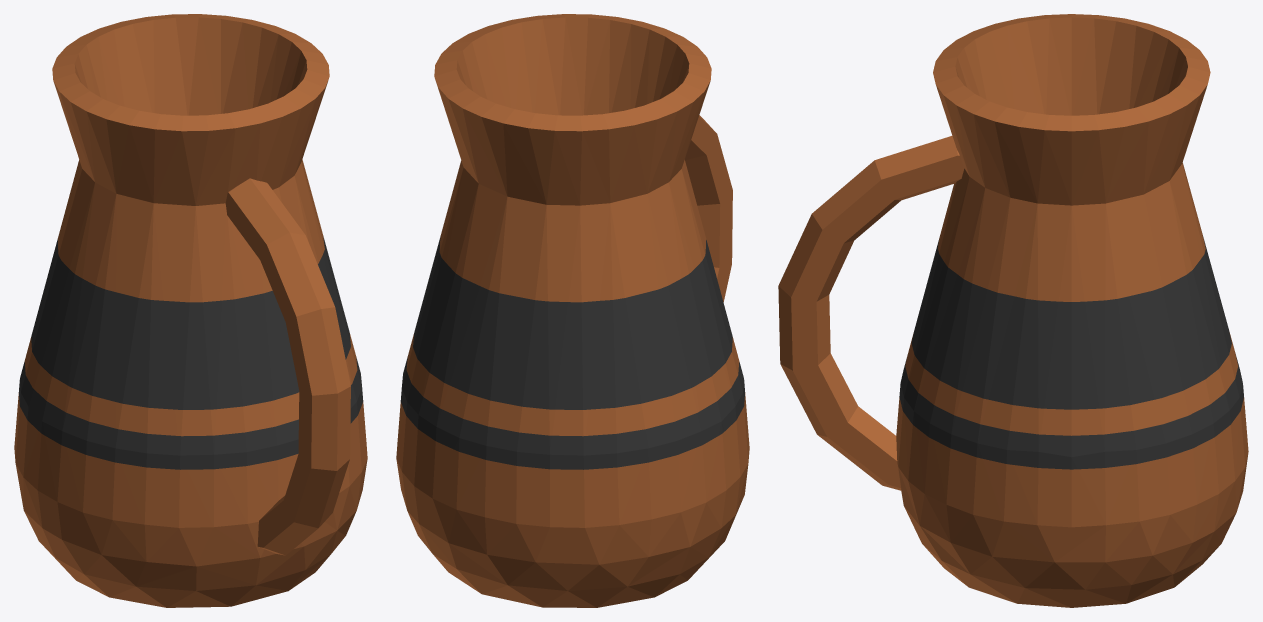
The model's file is Pottery 16_2.fbx.
3 renders of one model, left to right at view 1: azimuth 30°, elevation 25°; view 2: azimuth 150°, elevation 25°; view 3: azimuth 270°, elevation 25°, orthographic.
Visible parts, largest first — view 1: Pottery 16_2; view 2: Pottery 16_2; view 3: Pottery 16_2.
Boxes of the visible parts, box(x1,y1,x2,y2) form: Pottery 16_2: box(14, 14, 367, 607); Pottery 16_2: box(396, 14, 749, 607); Pottery 16_2: box(778, 14, 1248, 607).
Bounding box in the file's own units: 30.34 × 45.97 × 40.35.
